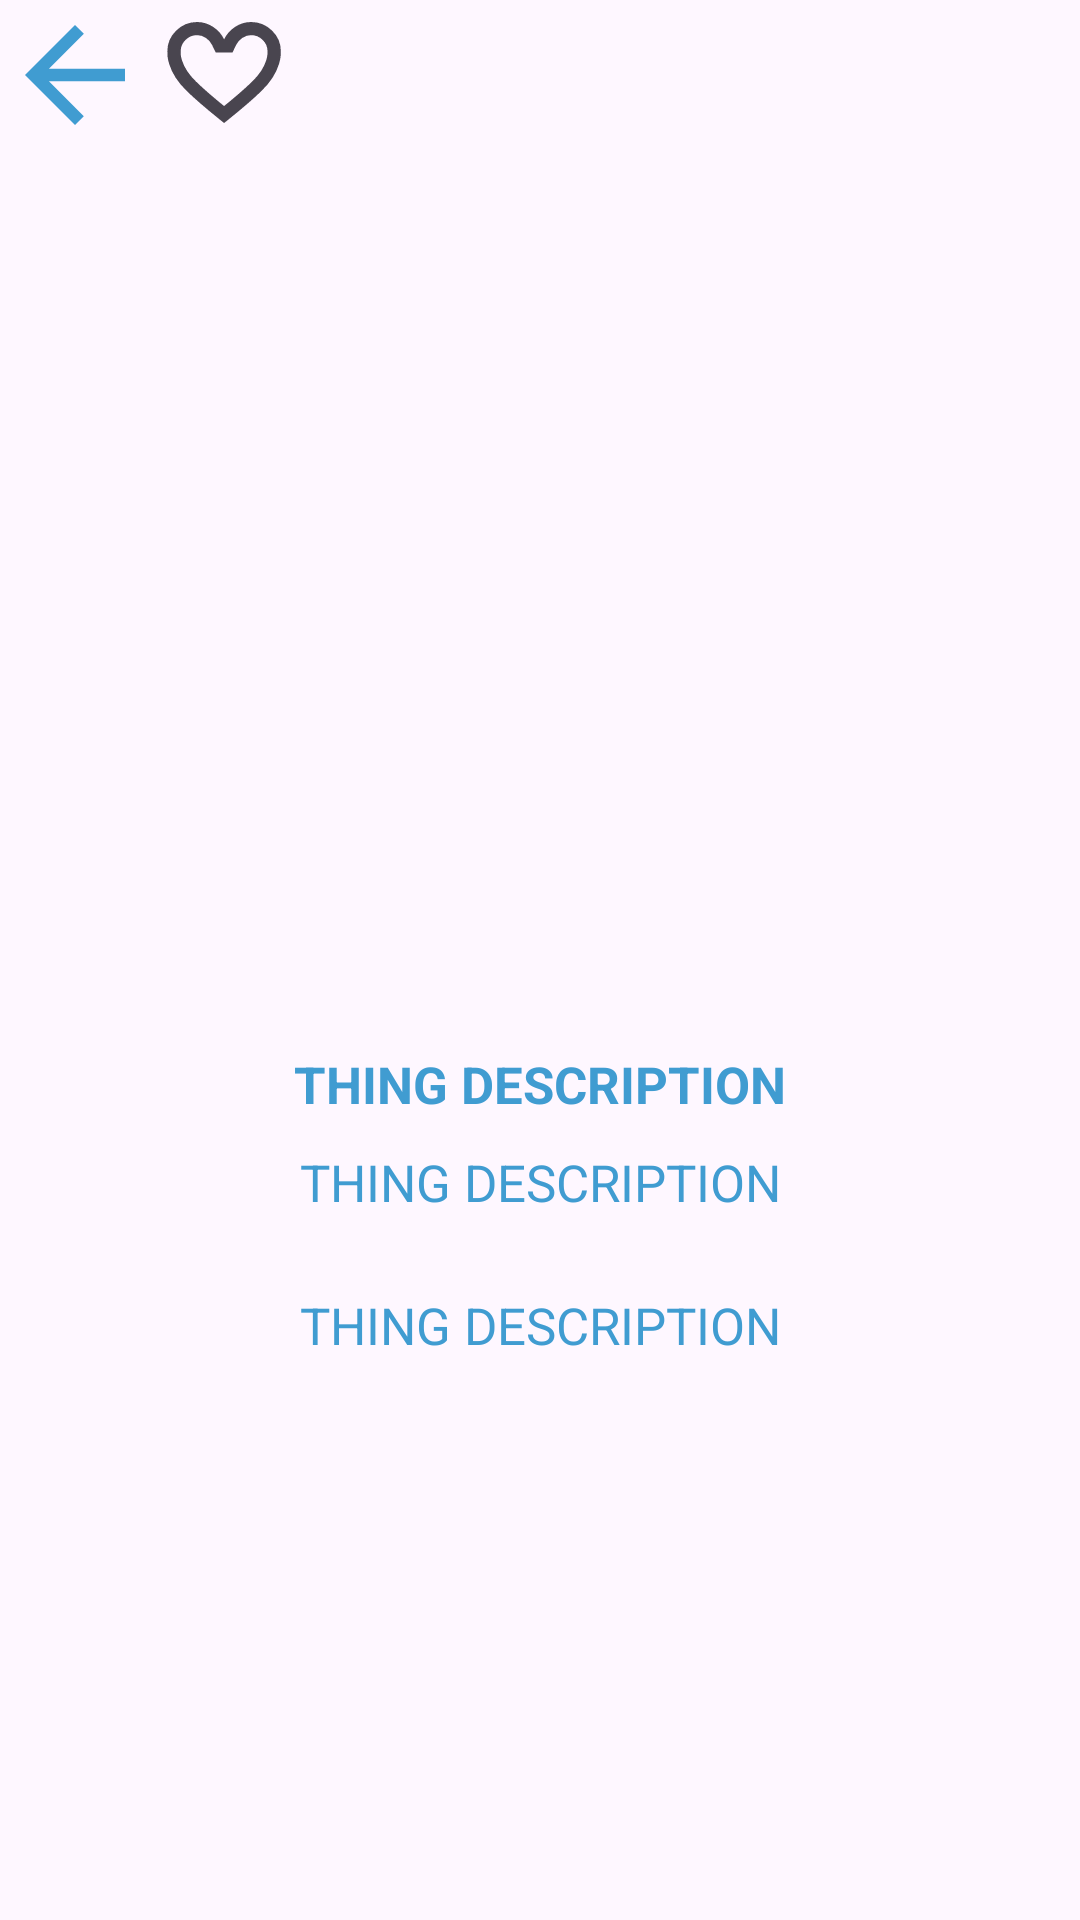

Named icons in this screenshot (1080w x 1920h) and their centers, point (x, y):
arrow: point (75, 75)
is liked checkbox: point (224, 72)
